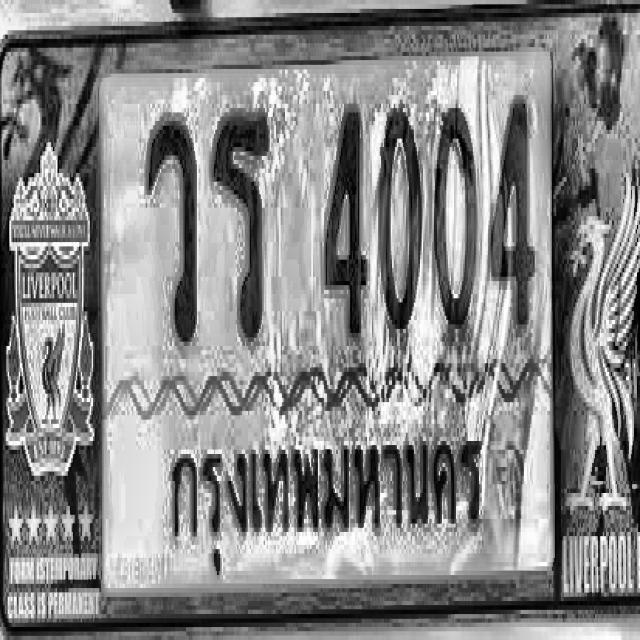license-plate: (0, 32, 640, 640)
